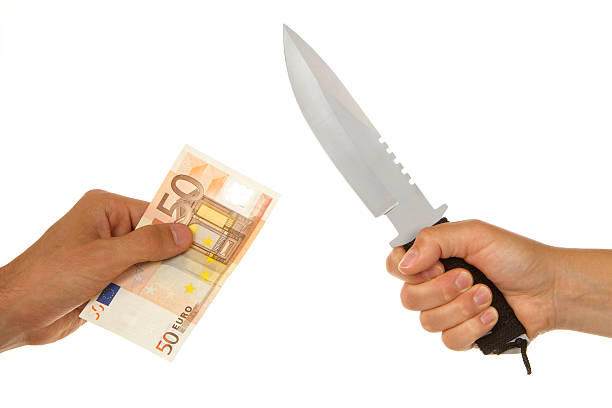knife: (282, 17, 533, 355)
